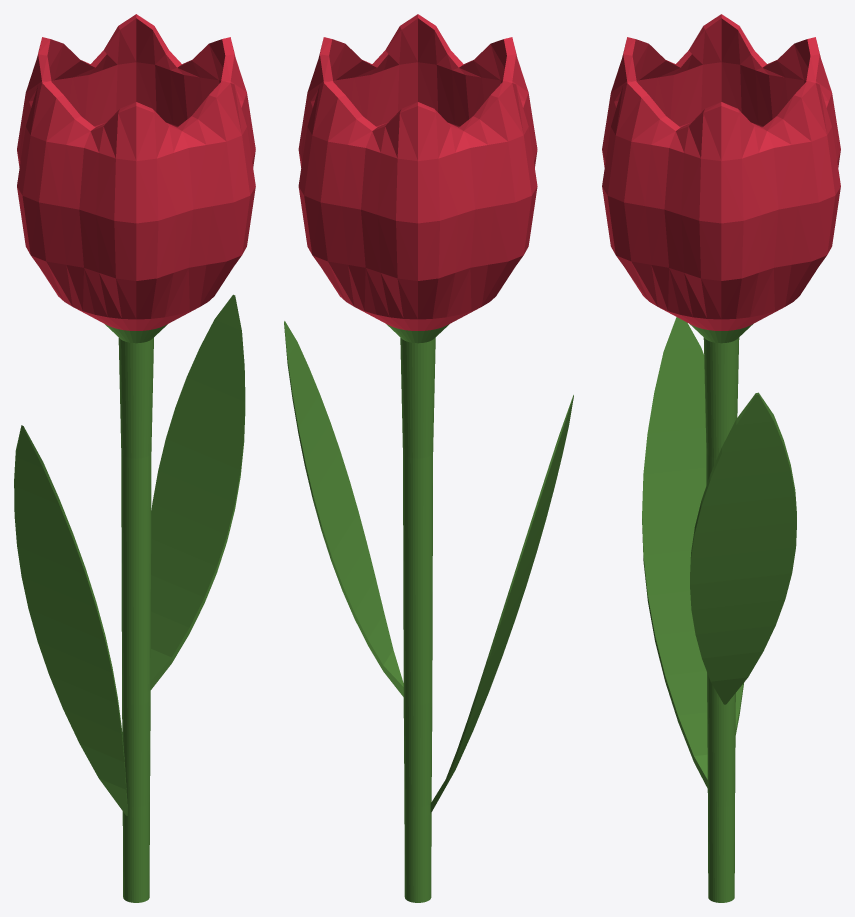
File: NEW_RECOVERY_024_LOD1.glb
The picture shows the model from 3 angles, left to right: view 1: azimuth 30°, elevation 25°; view 2: azimuth 150°, elevation 25°; view 3: azimuth 270°, elevation 25°; orthographic projection.
Visible parts, largest first — view 1: Tulip_whole; view 2: Tulip_whole; view 3: Tulip_whole.
Part boxes in pixels (x1,y1,x2,y2): Tulip_whole: [14, 14, 255, 902]; Tulip_whole: [284, 14, 573, 902]; Tulip_whole: [602, 14, 840, 902].
Size of the model in its own units: 0.7671 by 2.44 by 0.6324.
